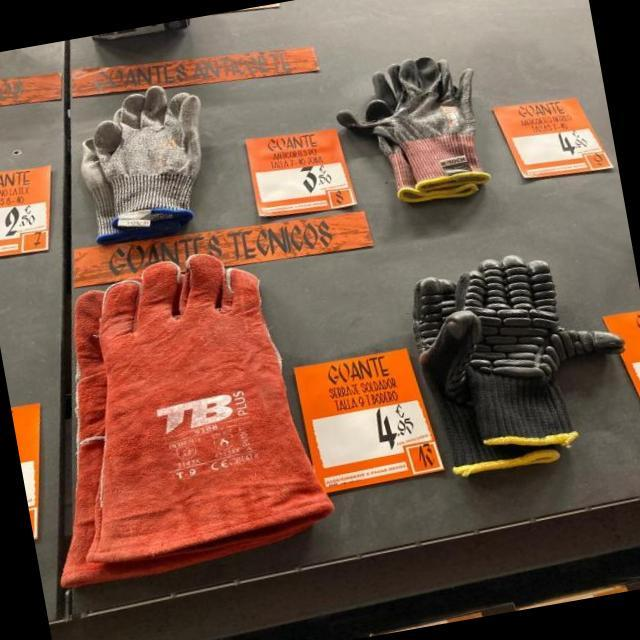glove: (74, 254, 339, 578), (401, 252, 623, 480), (338, 49, 494, 212), (76, 86, 216, 238)
